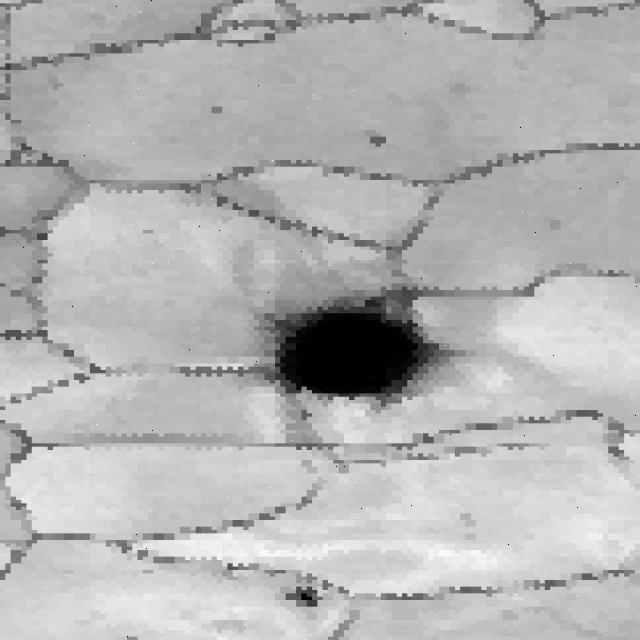good_void: (249, 260, 479, 424), (273, 584, 335, 612), (354, 127, 400, 153), (201, 97, 229, 121), (292, 407, 321, 423)
